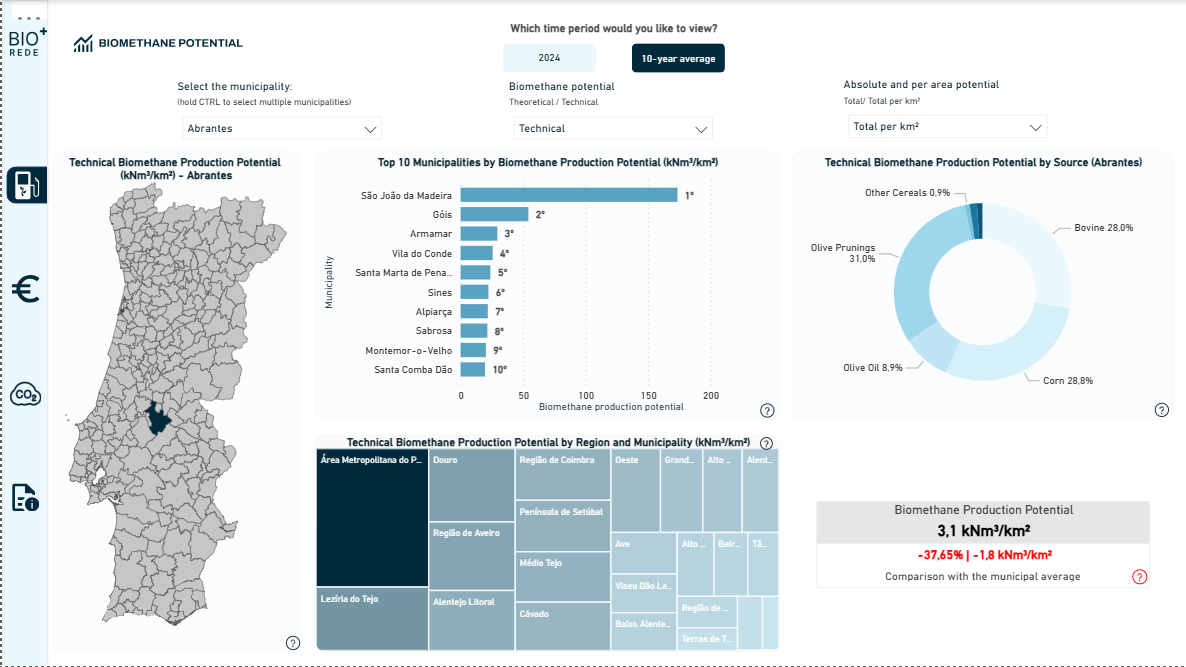

The dashboard page shown, as its layout file describes it:
{"tool":"powerbi","page":{"name":"Biomethane_potential","canvas":[1280,720],"ordinal":1},"visuals":[{"type":"shape","title":"Barra_lateral","box":[0,0,50,720],"z":0,"group":"g2"},{"type":"slicer","title":"Biomethane potential","fields":{"Values":["Bio_met_pot.Biomethane_potential"]},"box":[548,85.5,225,67.8],"z":0},{"type":"shape","box":[5,180,45,40],"z":0,"group":"g4"},{"type":"shapeMap","fields":{"Category":["Biomethane_potential.Municipality"],"Value":["Sum(Biomethane_potential.Total Biomethane Production (kNm³))"]},"box":[55,164.4,266.7,540],"z":1000,"group":"g1"},{"type":"actionButton","title":"Total_button","box":[5,180,44,40],"z":1000,"group":"g4"},{"type":"card","fields":{"Values":["Biomethane_potential.Titulo_mapa_biomethane"]},"box":[64.5,164,247.1,40],"z":1500,"group":"g1"},{"type":"donutChart","fields":{"Y":["Sum(Biomethane_potential.Bovine  Biomethane Production (Nm³))","Sum(Biomethane_potential.Corn Residue Biomethane Production (Nm³))","Sum(Biomethane_potential.Olive OIl Residue Biomethane Production (Nm³))","Sum(Biomethane_potential.Olive Prunings  Biomethane Production (Nm³))","Sum(Biomethane_potential.Other Cerealst Residue Biomethane Production (Nm³))","Sum(Biomethane_potential.Rice  Residue Biomethane Production (Nm³))","Sum(Biomethane_potential.Swine Residue Biomethane Production (Nm³))","Sum(Biomethane_potential.Vine  Prunings  Biomethane Production (Nm³))","Sum(Biomethane_potential.Wheat Residue Biomethane Production (Nm³))","Sum(Biomethane_potential.Wine Residue Biomethane Production (m³))"]},"box":[854,163.9,411,290],"z":2000,"group":"g6"},{"type":"actionButton","title":"Duvidas_total_mapa","box":[304,686,17.9,17.9],"z":2000,"group":"g1"},{"type":"group","id":"g1","title":"Grupo 1","box":[55,164,266.9,540.4],"z":3000},{"type":"actionButton","title":"Info_button","box":[3,516,44,40.6],"z":3000,"group":"g2"},{"type":"card","title":"Biomethane Production Potential","fields":{"Values":["Biomethane_potential.vs media"]},"box":[879.4,540.9,360,94],"z":3000,"group":"g7"},{"type":"actionButton","title":"Duvidas_total_KPI","box":[1219,614,17.9,17.9],"z":3500,"group":"g7"},{"type":"slicer","title":"Select the municipality:","fields":{"Values":["Municipality.Municipality"]},"box":[190,85.5,225.9,67.8],"z":4000},{"type":"actionButton","title":"Euro_button","box":[3.6,404,44,40],"z":4000,"group":"g2"},{"type":"group","id":"g2","title":"Menu lateral abaerto","box":[0,0,50,720],"z":5000},{"type":"actionButton","title":"Person_button","box":[3.6,292,44,40],"z":5000,"group":"g2"},{"type":"actionButton","title":"MEM+","box":[0,21.4,50,50],"z":5500,"group":"g2"},{"type":"group","id":"g3","title":"Grupo 3","box":[541,-3.9,240,83.3],"z":6000},{"type":"group","id":"g4","title":"Total_icon group","box":[5,180,45,40],"z":6000,"group":"g2"},{"type":"group","id":"g5","title":"Grupo 4","box":[338,164,500.4,290],"z":7000},{"type":"actionButton","title":"TE_total_button","box":[680.7,47,100.3,31.3],"z":8000,"group":"g8"},{"type":"group","id":"g6","title":"Grupo 5","box":[854,163.9,411,290],"z":8000},{"type":"clusteredBarChart","fields":{"Category":["Biomethane_potential_TOP10.Municipality"],"Y":["Sum(Biomethane_potential_TOP10.Total Biomethane Production (kNm³))"]},"box":[338,164,500.4,290],"z":8000,"group":"g5"},{"type":"actionButton","box":[77,21.5,199.7,50.1],"z":9000},{"type":"actionButton","box":[541.3,46.8,100,30.8],"z":10000,"group":"g8"},{"type":"group","id":"g7","title":"Grupo 7","box":[879.4,540.9,360,94],"z":10000},{"type":"treemap","fields":{"Group":["Biomethane_potential.Nuts2 Hierarquia.Nuts3","Biomethane_potential.Nuts2 Hierarquia.Municipality"],"Values":["Biomethane_potential.BM_potential_heatmap_sum"]},"box":[338,470,501.5,234],"z":11000},{"type":"slicer","title":"Absolute and per area potential","fields":{"Values":["Total_per_area.Total_per_area"]},"box":[908,85,225,67.5],"z":12000},{"type":"actionButton","title":"Duvidas_total_ranking","box":[817,434,17,17.9],"z":13000,"group":"g5"},{"type":"actionButton","title":"Duvidas_total_setor","box":[1244,434,17.9,17],"z":13000,"group":"g6"},{"type":"actionButton","box":[817,471,15,15],"z":13000},{"type":"textbox","box":[541,-3.9,240,83.3],"z":14000,"group":"g3"},{"type":"group","id":"g8","title":"Grupo 2","box":[541.3,46.8,239.7,31.5],"z":14500,"group":"g3"}]}

Visuals, with their boxes in screenshot pixels (x1, y1, x2, y2), scaled from the page's 1280x720 canvas onto the 1186x667 screenshot:
"Barra_lateral" shape: {"left": 0, "top": 0, "right": 46, "bottom": 666}
"Biomethane potential" slicer: {"left": 508, "top": 79, "right": 716, "bottom": 142}
shape: {"left": 5, "top": 167, "right": 46, "bottom": 204}
shapeMap - Biomethane_potential.Municipality x Sum(Biomethane_potential.Total Biomethane Production (kNm³)): {"left": 51, "top": 152, "right": 298, "bottom": 653}
"Total_button" actionButton: {"left": 5, "top": 167, "right": 45, "bottom": 204}
card - Biomethane_potential.Titulo_mapa_biomethane: {"left": 60, "top": 152, "right": 289, "bottom": 189}
donutChart - Sum(Biomethane_potential.Bovine  Biomethane Production (Nm³)) x Sum(Biomethane_potential.Corn Residue Biomethane Production (Nm³)): {"left": 791, "top": 152, "right": 1172, "bottom": 420}
"Duvidas_total_mapa" actionButton: {"left": 282, "top": 636, "right": 298, "bottom": 652}
"Grupo 1" group: {"left": 51, "top": 152, "right": 298, "bottom": 653}
"Info_button" actionButton: {"left": 3, "top": 478, "right": 44, "bottom": 516}
"Biomethane Production Potential" card: {"left": 815, "top": 501, "right": 1148, "bottom": 588}
"Duvidas_total_KPI" actionButton: {"left": 1129, "top": 569, "right": 1146, "bottom": 585}
"Select the municipality:" slicer: {"left": 176, "top": 79, "right": 385, "bottom": 142}
"Euro_button" actionButton: {"left": 3, "top": 374, "right": 44, "bottom": 411}
"Menu lateral abaerto" group: {"left": 0, "top": 0, "right": 46, "bottom": 666}
"Person_button" actionButton: {"left": 3, "top": 271, "right": 44, "bottom": 308}
"MEM+" actionButton: {"left": 0, "top": 20, "right": 46, "bottom": 66}
"Grupo 3" group: {"left": 501, "top": 0, "right": 724, "bottom": 74}
"Total_icon group" group: {"left": 5, "top": 167, "right": 46, "bottom": 204}
"Grupo 4" group: {"left": 313, "top": 152, "right": 777, "bottom": 421}
"TE_total_button" actionButton: {"left": 631, "top": 44, "right": 724, "bottom": 73}
"Grupo 5" group: {"left": 791, "top": 152, "right": 1172, "bottom": 420}
clusteredBarChart - Biomethane_potential_TOP10.Municipality x Sum(Biomethane_potential_TOP10.Total Biomethane Production (kNm³)): {"left": 313, "top": 152, "right": 777, "bottom": 421}
actionButton: {"left": 71, "top": 20, "right": 256, "bottom": 66}
actionButton: {"left": 502, "top": 43, "right": 594, "bottom": 72}
"Grupo 7" group: {"left": 815, "top": 501, "right": 1148, "bottom": 588}
treemap - Biomethane_potential.Nuts2 Hierarquia.Nuts3 x Biomethane_potential.Nuts2 Hierarquia.Municipality: {"left": 313, "top": 435, "right": 778, "bottom": 652}
"Absolute and per area potential" slicer: {"left": 841, "top": 79, "right": 1050, "bottom": 141}
"Duvidas_total_ranking" actionButton: {"left": 757, "top": 402, "right": 773, "bottom": 419}
"Duvidas_total_setor" actionButton: {"left": 1153, "top": 402, "right": 1169, "bottom": 418}
actionButton: {"left": 757, "top": 436, "right": 771, "bottom": 450}
textbox: {"left": 501, "top": 0, "right": 724, "bottom": 74}
"Grupo 2" group: {"left": 502, "top": 43, "right": 724, "bottom": 73}
